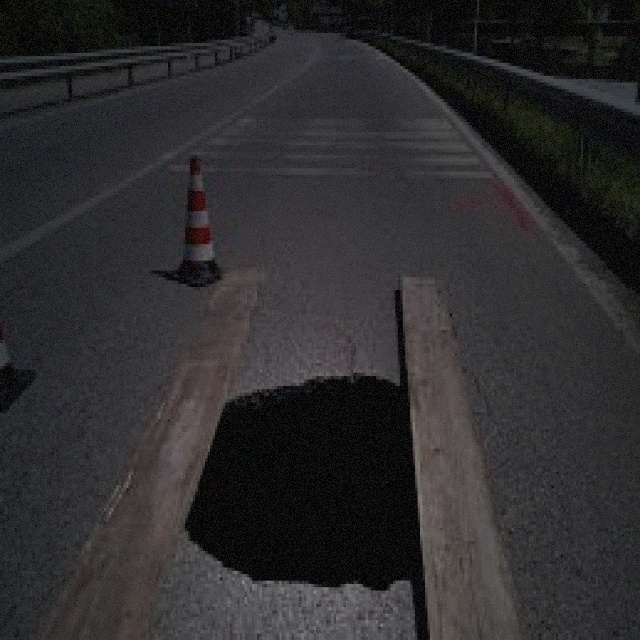pothole: (185, 360, 435, 587)
